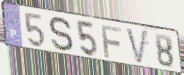5: (75, 20, 100, 58), (23, 12, 47, 49)
8: (154, 33, 175, 69)
F: (100, 23, 124, 59)
S: (48, 16, 75, 53)
V: (125, 27, 150, 67)
